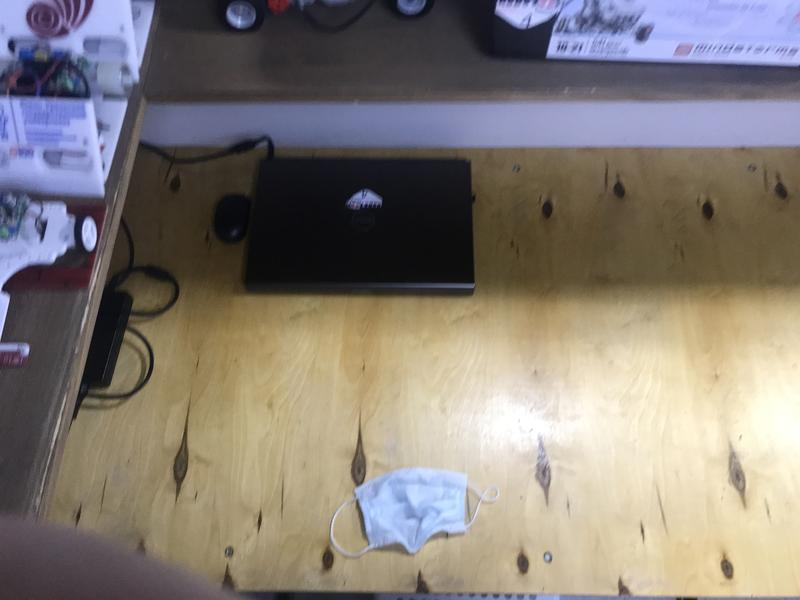medical_mask: (332, 469, 498, 557)
